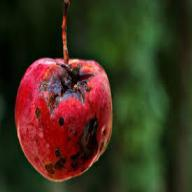apple: (13, 56, 111, 178)
